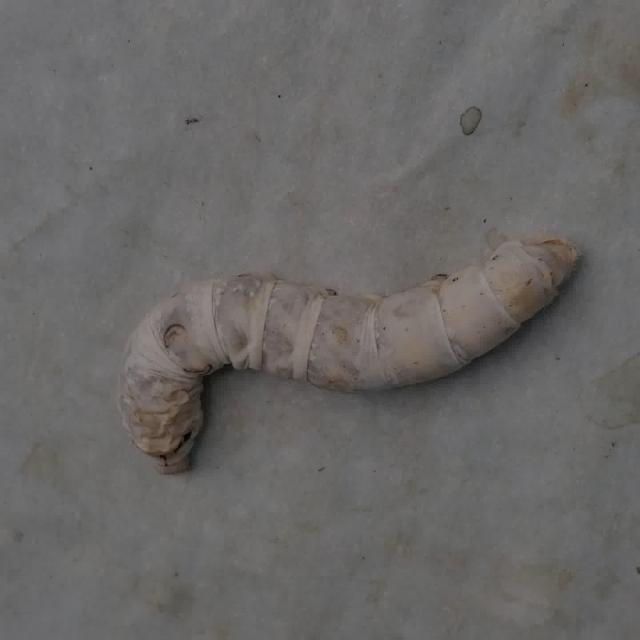Grasserie: (89, 200, 604, 481)
